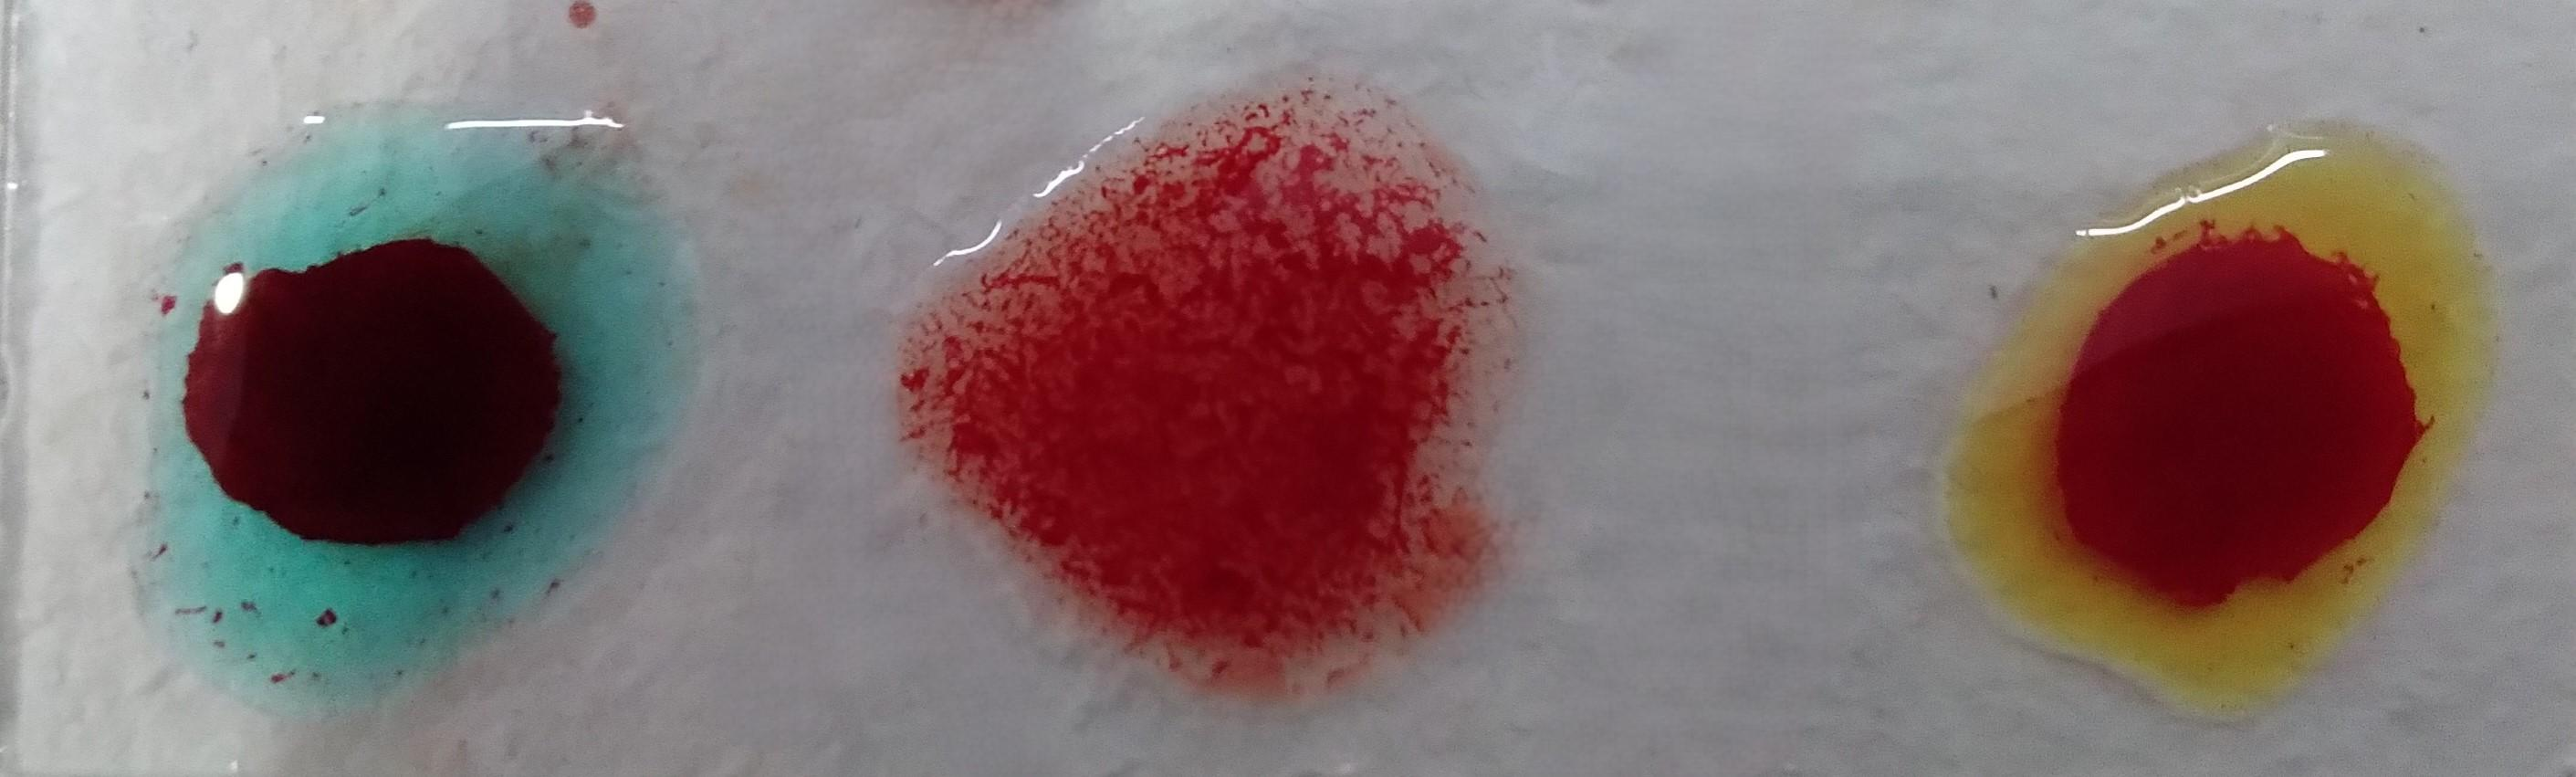A: (161, 103, 678, 729)
B: (1976, 135, 2454, 706)
D: (907, 76, 1495, 705)
